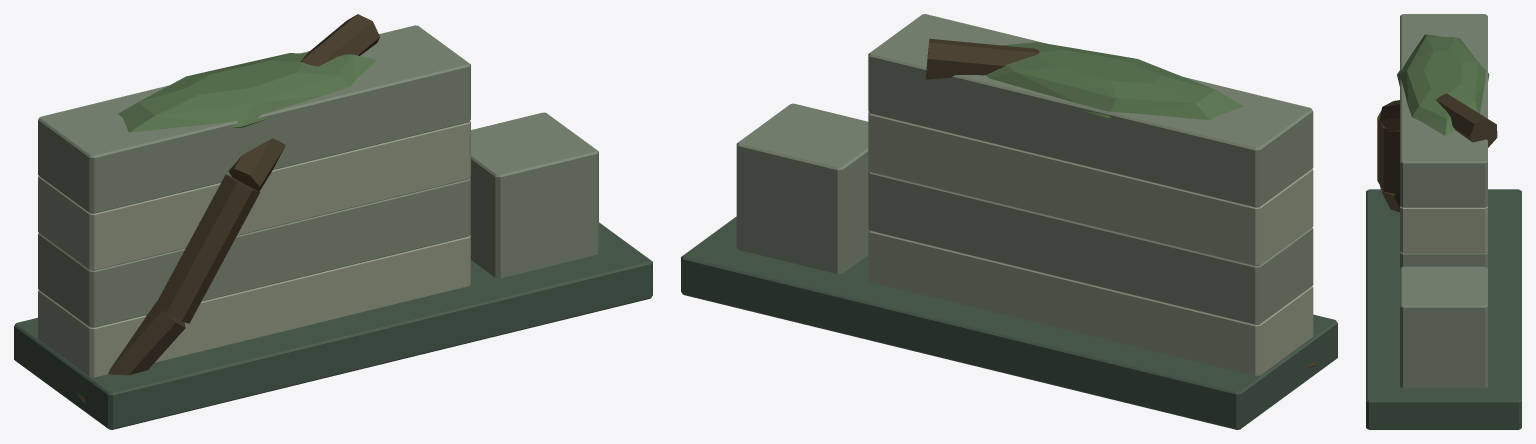
The model's file is rooted-ruin.glb.
3 renders of one model, left to right at view 1: azimuth 30°, elevation 25°; view 2: azimuth 150°, elevation 25°; view 3: azimuth 270°, elevation 25°, orthographic. The views are drawn at different scales.
Visible parts, largest first — view 1: rooted-ruin__body; view 2: rooted-ruin__body; view 3: rooted-ruin__body.
Boxes of the visible parts, left/top/right/bottom form: rooted-ruin__body: left=14, top=14, right=652, bottom=429; rooted-ruin__body: left=681, top=14, right=1337, bottom=429; rooted-ruin__body: left=1366, top=14, right=1521, bottom=429.
Size of the model in its own units: 2.01 by 1.03 by 0.62.
